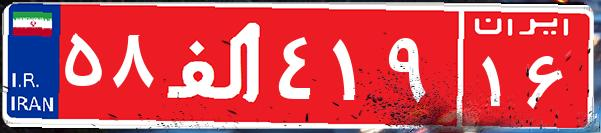1: (330, 28, 385, 110), (475, 38, 525, 113)
4: (273, 28, 330, 110)
5: (57, 26, 110, 107)
6: (525, 38, 570, 115)
8: (110, 28, 158, 105)
9: (385, 28, 445, 110)
الف: (158, 15, 273, 115)
